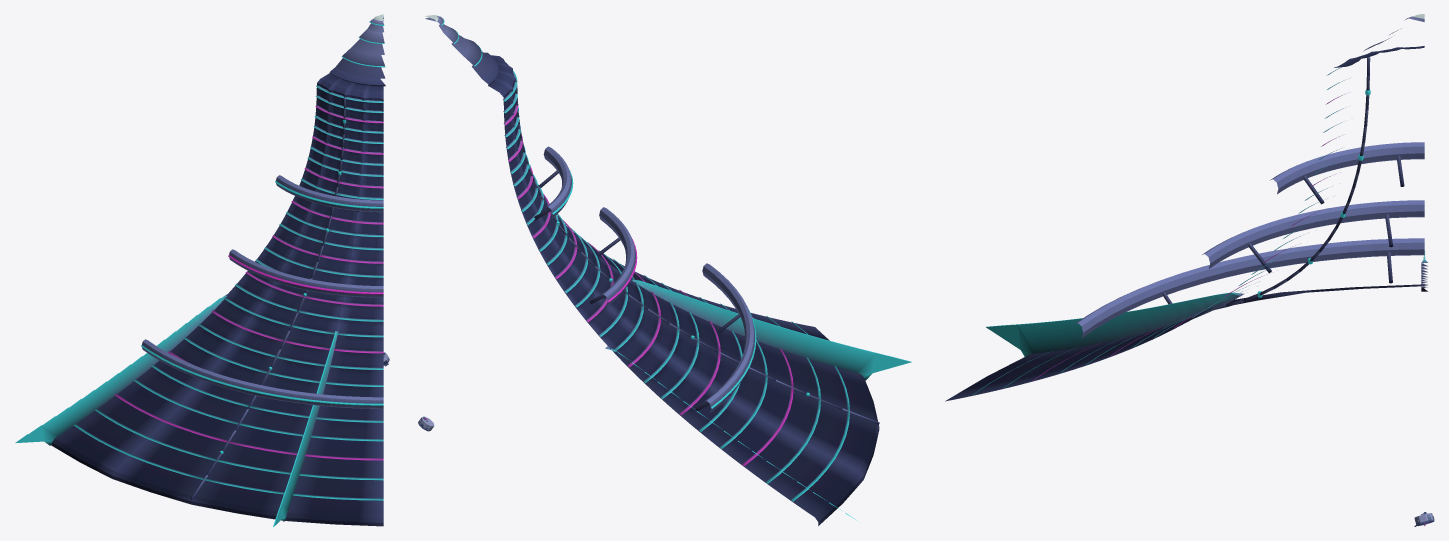
File: core-s6-DByu6QcA.glb
3 views of the same model, side by side, from view 1: azimuth 30°, elevation 25°; view 2: azimuth 150°, elevation 25°; view 3: azimuth 270°, elevation 25° (orthographic). The views are drawn at different scales.
Visible parts, largest first — view 1: sc_landmark_3; view 2: sc_landmark_3; view 3: sc_landmark_3.
Part boxes in pixels (x1,y1,x2,y2): sc_landmark_3: [15, 14, 385, 526]; sc_landmark_3: [425, 15, 911, 525]; sc_landmark_3: [945, 14, 1427, 401].
Size of the model in its own units: 422 by 377 by 332.
